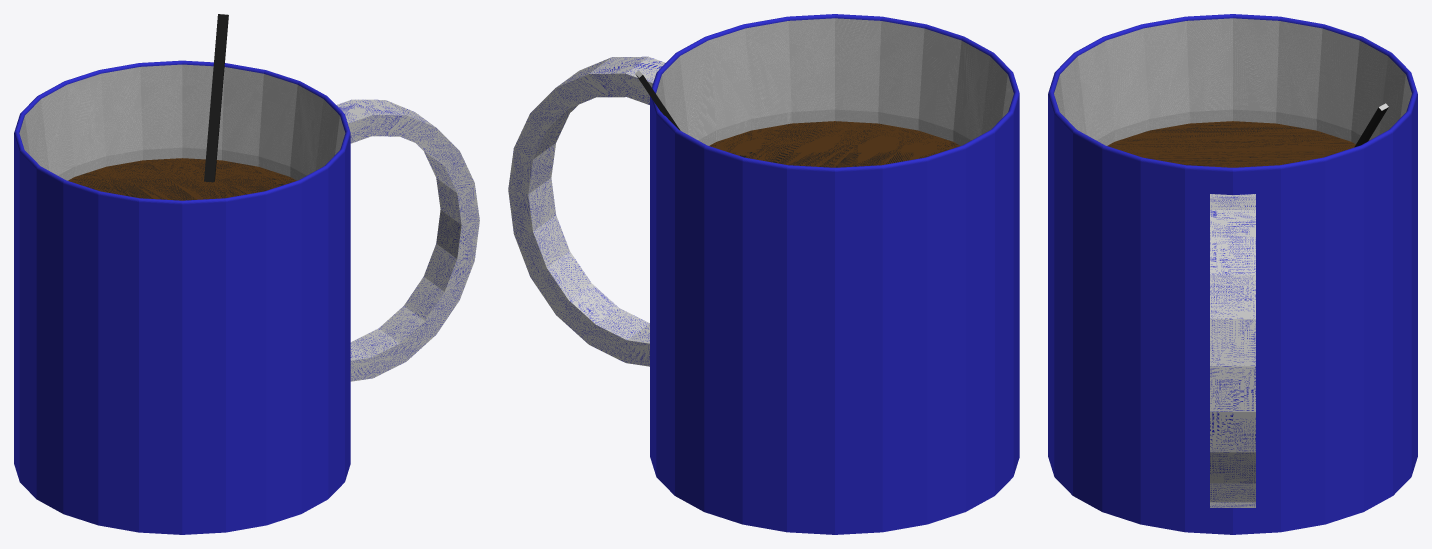
The picture shows the model from 3 angles, left to right: view 1: azimuth 30°, elevation 25°; view 2: azimuth 150°, elevation 25°; view 3: azimuth 270°, elevation 25°; orthographic projection. The views are drawn at different scales.
Parts seen in each view (by area): view 1: mesh1_mesh1-geometry; view 2: mesh1_mesh1-geometry; view 3: mesh1_mesh1-geometry.
Boxes of the visible parts, x1=… form: mesh1_mesh1-geometry: x1=14, y1=14, x2=479, y2=534; mesh1_mesh1-geometry: x1=508, y1=14, x2=1019, y2=534; mesh1_mesh1-geometry: x1=1048, y1=14, x2=1417, y2=534.
Bounding box in the file's own units: 0.6847 × 0.5643 × 0.4613.
